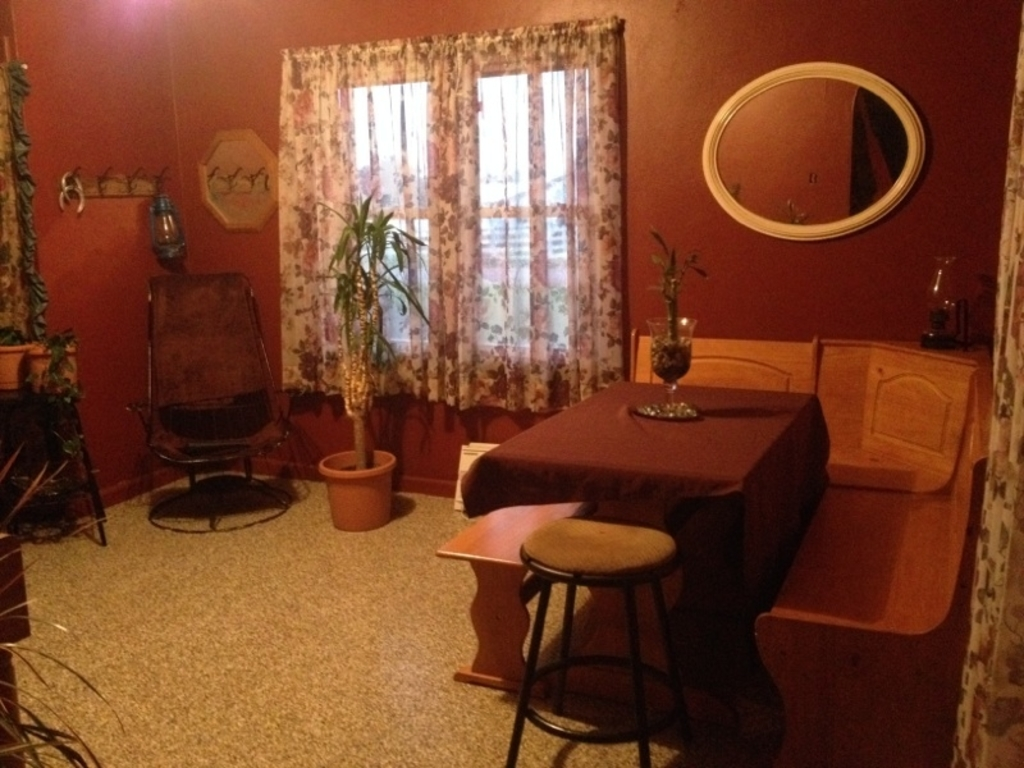Chair: (751, 362, 995, 764), (506, 512, 676, 767), (136, 261, 292, 530)
